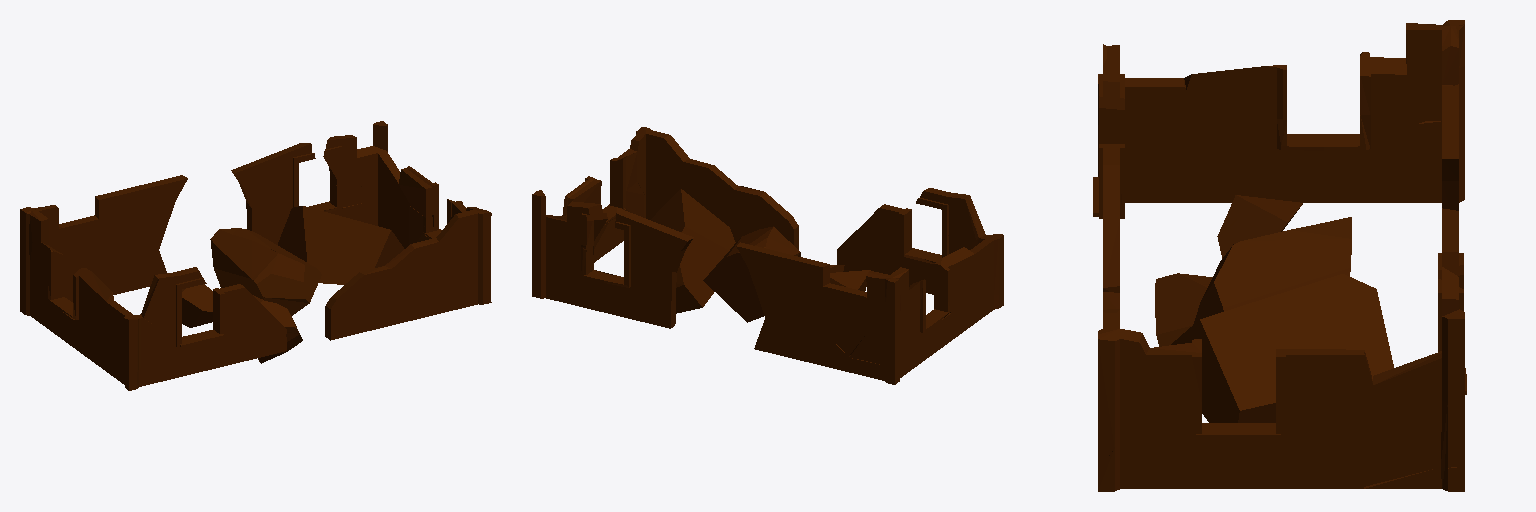
The robot description file, URDF, robot "cabin_broken":
<?xml version="1.0" ?>

<robot name="cabin_broken" xmlns:xacro="http://ros.org/wiki/xacro">
  <gazebo>
    <static>true</static>
  </gazebo>
  <link name="cabin_broken">
    <!--MAIN_BODY-->
    <visual>
      <origin rpy="0 0 0" xyz="0 0 0"/>
      <geometry>
        <mesh filename="package://iai_outdoor_models/models/cabin_broken/cabin_broken.stl"/>
      </geometry>
      <material name="IAI_RESCUE/cabin_broken">
       <color rgba="0.31 0.15 0.033 1.0"/>
     </material>
    </visual>
    <collision>
      <origin rpy="0 0 0" xyz="0 0 0"/>
      <geometry>
        <mesh filename="package://iai_outdoor_models/models/cabin_broken/cabin_broken.stl"/>
      </geometry>
    </collision>
    <inertial>
      <mass value=".1"/>
      <origin xyz="0 0 0"/>
      <inertia ixx="0.001" ixy="0.0" ixz="0.0" iyy="0.001" iyz="0.0" izz="0.001"/>
    </inertial>
  </link>
</robot>
 

--- Facts derived from the render (not from the file) ---
Views: 3 orthographic renders of the robot side by side, from view 1: azimuth 30°, elevation 25°; view 2: azimuth 150°, elevation 25°; view 3: azimuth 270°, elevation 25°.
Model cabin_broken with 1 links and 0 joints (none), rooted at cabin_broken, posed every joint at zero.
Links seen in each view (by area): view 1: cabin_broken; view 2: cabin_broken; view 3: cabin_broken.
Boxes of the visible links, x1=… form: cabin_broken: x1=20, y1=121, x2=491, y2=390; cabin_broken: x1=532, y1=127, x2=1003, y2=384; cabin_broken: x1=1093, y1=20, x2=1466, y2=491.
Bounding box of the posed robot: 8.4 × 4.4 × 3.01 m (x, y, z).
Meshes: 1 distinct files referenced, 1 mesh visuals loaded (1 binary STL).